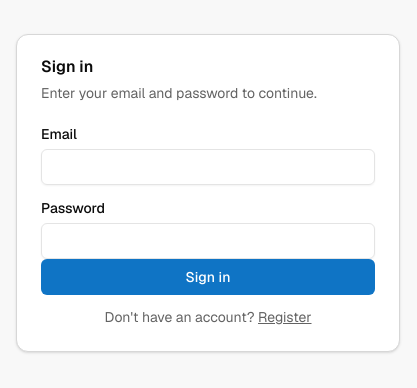
Test: login form › recovers when sign-in throws
In the field labelled "Email": (208, 167) [41,149,375,185], type "user@example.com"
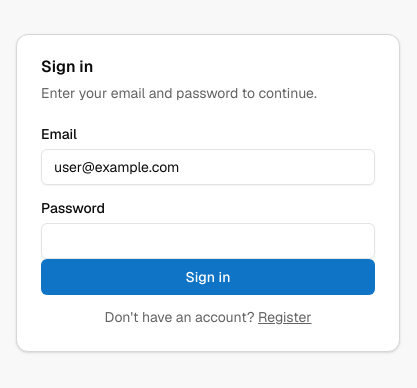
In the password field labelled "Password": (208, 241) [41,223,375,259], type "secret-password"
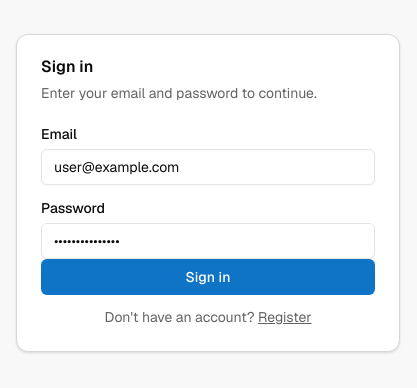
Click the button "Sign in": (208, 277) [41,259,375,295]
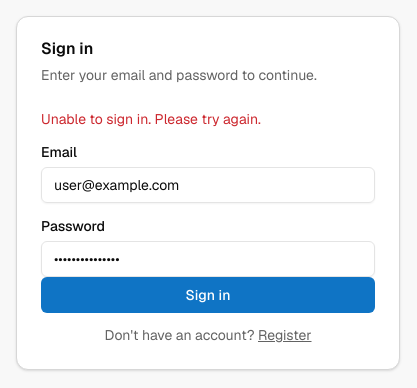
Expected: the button "Sign in" is enabled, [41,277,375,313]
Now the message reads "Unable to sign in. Please try again.", box [41,110,261,128]
